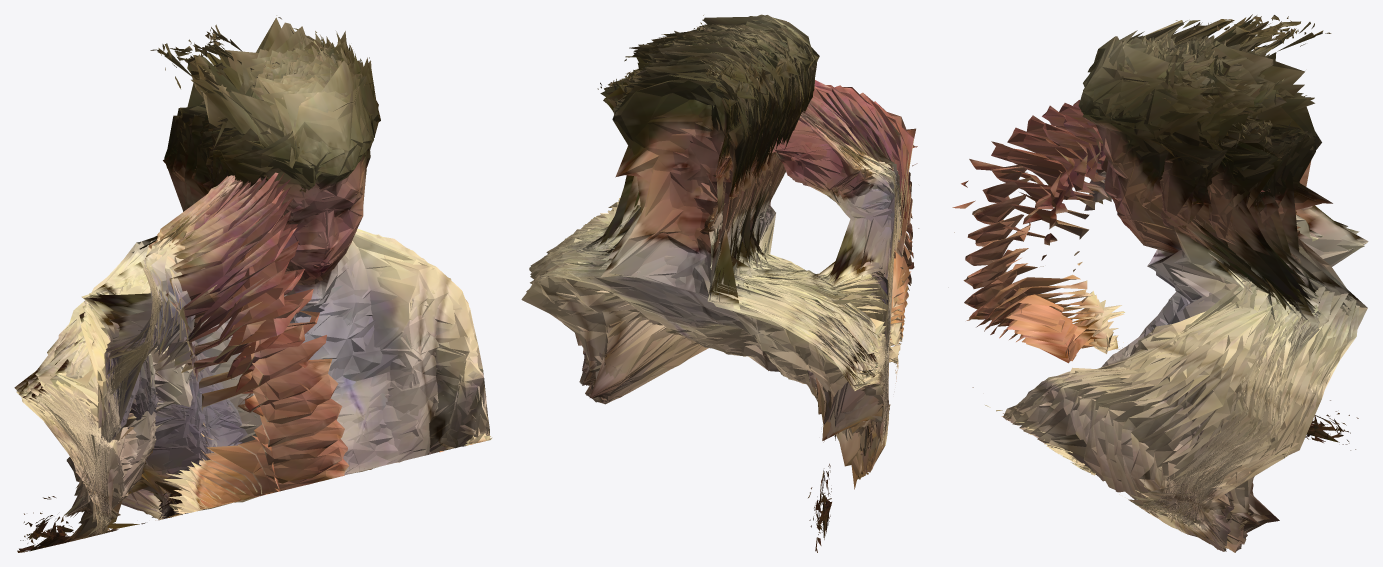
Rendered from TimsVideo-transformed.glb.
The picture shows the model from 3 angles, left to right: view 1: azimuth 30°, elevation 25°; view 2: azimuth 150°, elevation 25°; view 3: azimuth 270°, elevation 25°; orthographic projection. The views are drawn at different scales.
Parts seen in each view (by area): view 1: 2024-10-22--23-55-58_0000485, 2024-10-22--23-55-58_0000484, 2024-10-22--23-55-58_0000483, 2024-10-22--23-55-58_0000482, 2024-10-22--23-55-58_0000481, 2024-10-22--23-55-58_0000350, 2024-10-22--23-55-58_0000355, 2024-10-22--23-55-58_0000433, 2024-10-22--23-55-58_0000437, 2024-10-22--23-55-58_0000438, 2024-10-22--23-55-58_0000439, 2024-10-22--23-55-58_0000352 (+48 smaller); view 2: 2024-10-22--23-55-58_0000000, 2024-10-22--23-55-58_0000001, 2024-10-22--23-55-58_0000002, 2024-10-22--23-55-58_0000003, 2024-10-22--23-55-58_0000004, 2024-10-22--23-55-58_0000353, 2024-10-22--23-55-58_0000006, 2024-10-22--23-55-58_0000005, 2024-10-22--23-55-58_0000351, 2024-10-22--23-55-58_0000350, 2024-10-22--23-55-58_0000352, 2024-10-22--23-55-58_0000359 (+47 smaller); view 3: 2024-10-22--23-55-58_0000485, 2024-10-22--23-55-58_0000484, 2024-10-22--23-55-58_0000483, 2024-10-22--23-55-58_0000481, 2024-10-22--23-55-58_0000482, 2024-10-22--23-55-58_0000463, 2024-10-22--23-55-58_0000003, 2024-10-22--23-55-58_0000212, 2024-10-22--23-55-58_0000467, 2024-10-22--23-55-58_0000466, 2024-10-22--23-55-58_0000469, 2024-10-22--23-55-58_0000465 (+85 smaller).
Part boxes in pixels (bbox=[...]): 2024-10-22--23-55-58_0000485: bbox=[67, 74, 487, 517]; 2024-10-22--23-55-58_0000484: bbox=[72, 85, 489, 520]; 2024-10-22--23-55-58_0000483: bbox=[71, 86, 488, 513]; 2024-10-22--23-55-58_0000482: bbox=[75, 91, 486, 518]; 2024-10-22--23-55-58_0000481: bbox=[50, 50, 486, 512]; 2024-10-22--23-55-58_0000350: bbox=[69, 37, 303, 527]; 2024-10-22--23-55-58_0000355: bbox=[102, 35, 293, 434]; 2024-10-22--23-55-58_0000433: bbox=[92, 49, 326, 530]; 2024-10-22--23-55-58_0000437: bbox=[55, 346, 344, 465]; 2024-10-22--23-55-58_0000438: bbox=[66, 372, 347, 483]; 2024-10-22--23-55-58_0000439: bbox=[56, 43, 349, 494]; 2024-10-22--23-55-58_0000352: bbox=[92, 249, 296, 502]; 2024-10-22--23-55-58_0000000: bbox=[537, 80, 886, 502]; 2024-10-22--23-55-58_0000001: bbox=[544, 75, 884, 480]; 2024-10-22--23-55-58_0000002: bbox=[521, 72, 884, 434]; 2024-10-22--23-55-58_0000003: bbox=[539, 72, 883, 477]; 2024-10-22--23-55-58_0000004: bbox=[533, 75, 889, 475]; 2024-10-22--23-55-58_0000353: bbox=[530, 59, 902, 513]; 2024-10-22--23-55-58_0000006: bbox=[542, 68, 885, 505]; 2024-10-22--23-55-58_0000005: bbox=[538, 72, 884, 479]; 2024-10-22--23-55-58_0000351: bbox=[540, 42, 908, 504]; 2024-10-22--23-55-58_0000350: bbox=[554, 43, 913, 515]; 2024-10-22--23-55-58_0000352: bbox=[538, 53, 904, 425]; 2024-10-22--23-55-58_0000359: bbox=[531, 70, 898, 382]; 2024-10-22--23-55-58_0000485: bbox=[1005, 36, 1246, 417]; 2024-10-22--23-55-58_0000484: bbox=[1003, 36, 1244, 417]; 2024-10-22--23-55-58_0000483: bbox=[1004, 41, 1247, 418]; 2024-10-22--23-55-58_0000481: bbox=[1006, 30, 1246, 418]; 2024-10-22--23-55-58_0000482: bbox=[1005, 46, 1246, 419]; 2024-10-22--23-55-58_0000463: bbox=[996, 26, 1274, 490]; 2024-10-22--23-55-58_0000003: bbox=[1144, 43, 1367, 546]; 2024-10-22--23-55-58_0000212: bbox=[1134, 56, 1248, 516]; 2024-10-22--23-55-58_0000467: bbox=[1113, 38, 1268, 523]; 2024-10-22--23-55-58_0000466: bbox=[1120, 37, 1272, 527]; 2024-10-22--23-55-58_0000469: bbox=[1093, 20, 1260, 489]; 2024-10-22--23-55-58_0000465: bbox=[1130, 38, 1272, 529].
Bounding box in the file's own units: 0.5936 × 0.7035 × 0.5292.
Materials: 486 (486 with a texture image).
